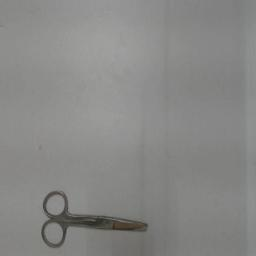Dressing Scissors: (36, 184, 154, 254)
